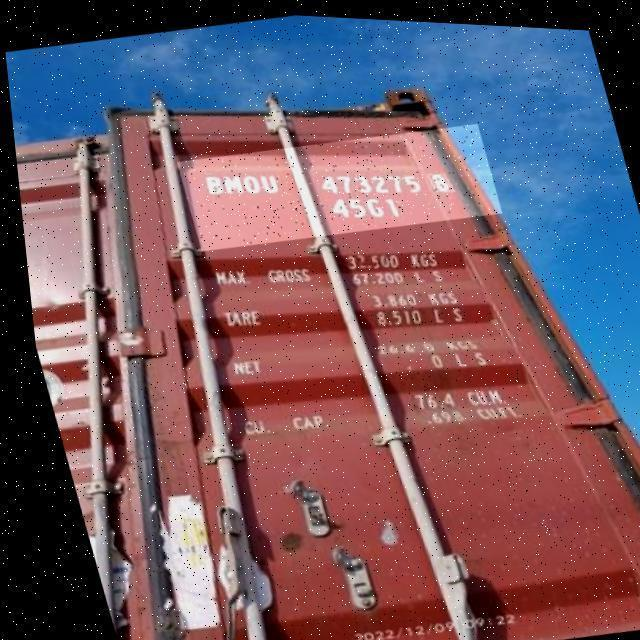container_number_h: (169, 106, 502, 262)
